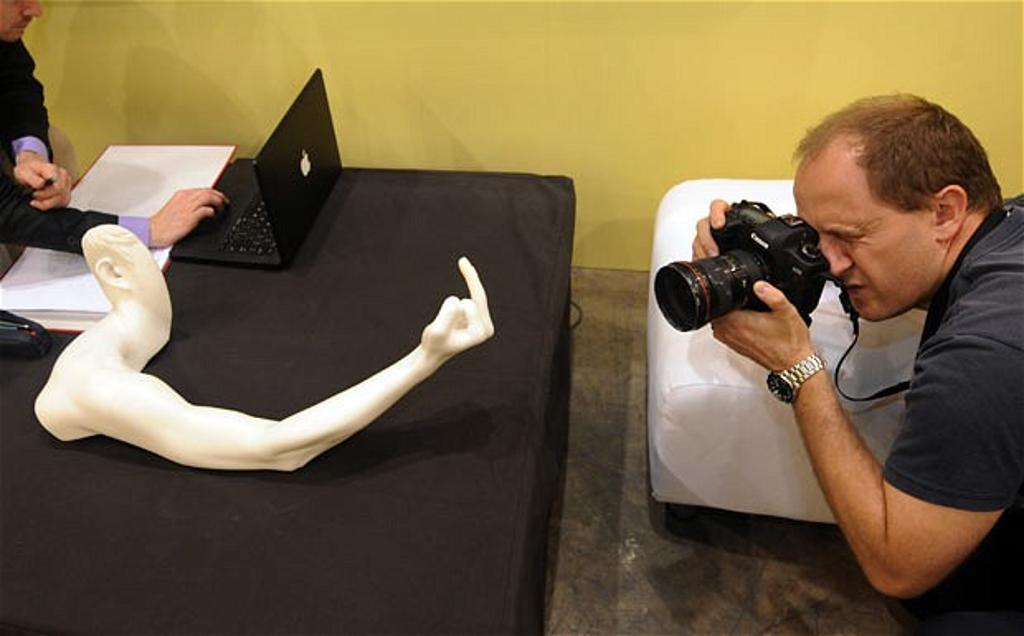face: (790, 144, 926, 322)
